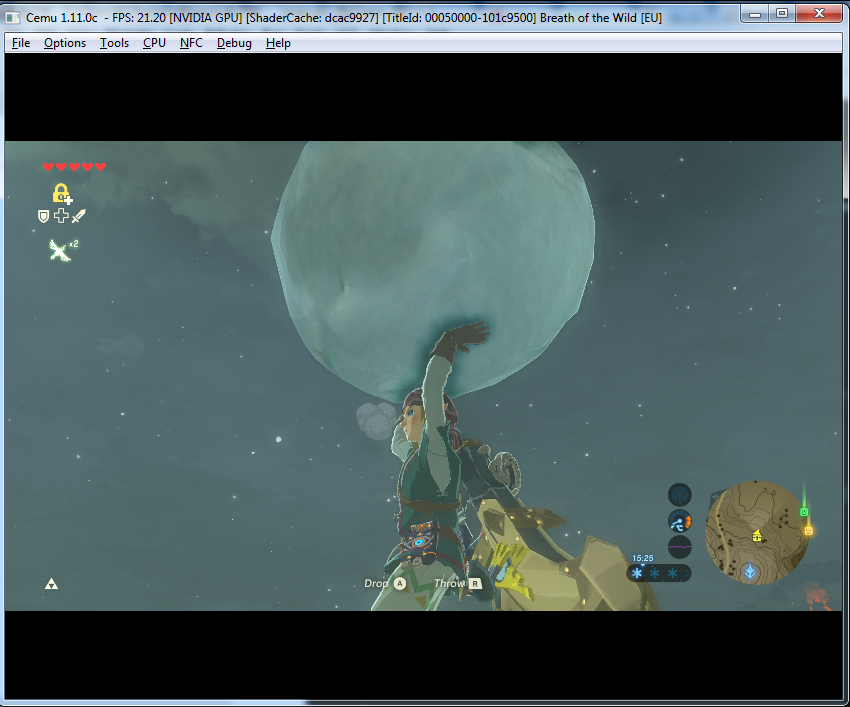link: (364, 317, 529, 611)
snowball: (262, 136, 597, 404)
